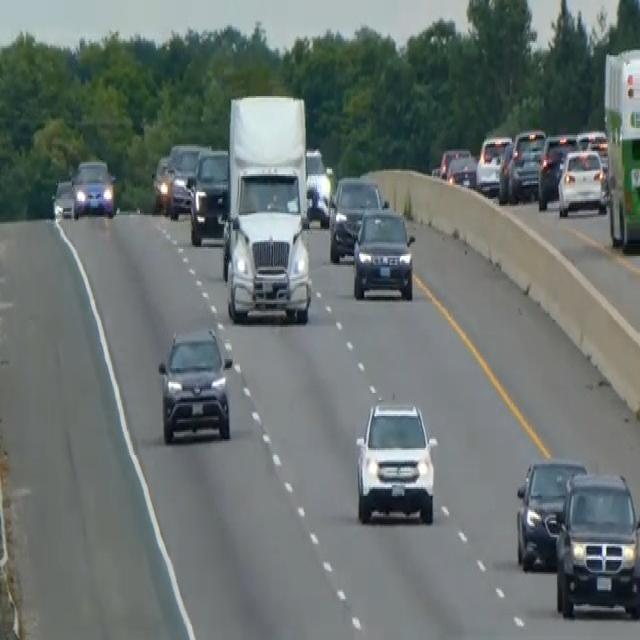bus: (602, 44, 639, 252)
car: (554, 469, 639, 619), (354, 396, 438, 524), (156, 324, 233, 444), (514, 455, 586, 571), (351, 204, 415, 300), (328, 174, 386, 263), (188, 147, 229, 245), (557, 146, 607, 217), (537, 130, 579, 210), (166, 142, 207, 219), (508, 126, 546, 201), (72, 156, 115, 218), (475, 133, 511, 194), (304, 146, 331, 224), (150, 153, 173, 211), (496, 138, 515, 202), (446, 151, 477, 189), (50, 176, 76, 220), (438, 144, 469, 180)
lorry: (221, 91, 313, 325)
